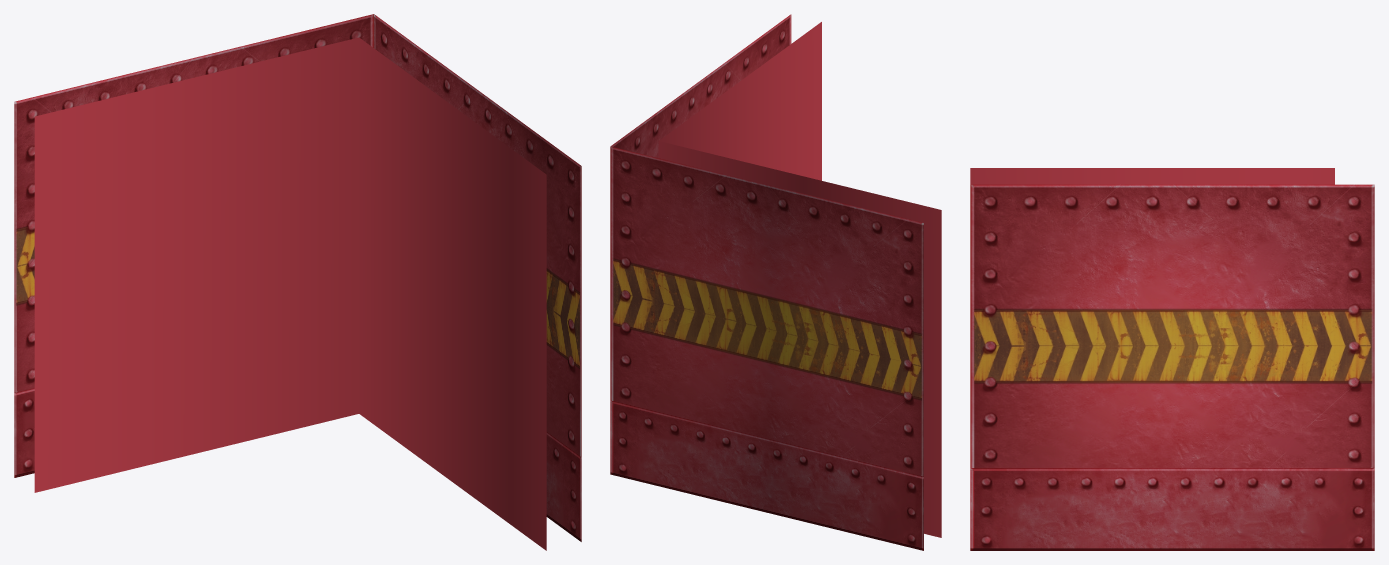
Rendered from CornerIn0.fbx.
3 renders of one model, left to right at view 1: azimuth 30°, elevation 25°; view 2: azimuth 150°, elevation 25°; view 3: azimuth 270°, elevation 25°, orthographic. The views are drawn at different scales.
Parts seen in each view (by area): view 1: CornerIn0; view 2: CornerIn0; view 3: CornerIn0.
Part boxes in pixels (bbox=[...]): CornerIn0: bbox=[14, 14, 581, 550]; CornerIn0: bbox=[610, 14, 941, 550]; CornerIn0: bbox=[970, 168, 1374, 550].
Size of the model in its own units: 1024 by 1024 by 1024.
